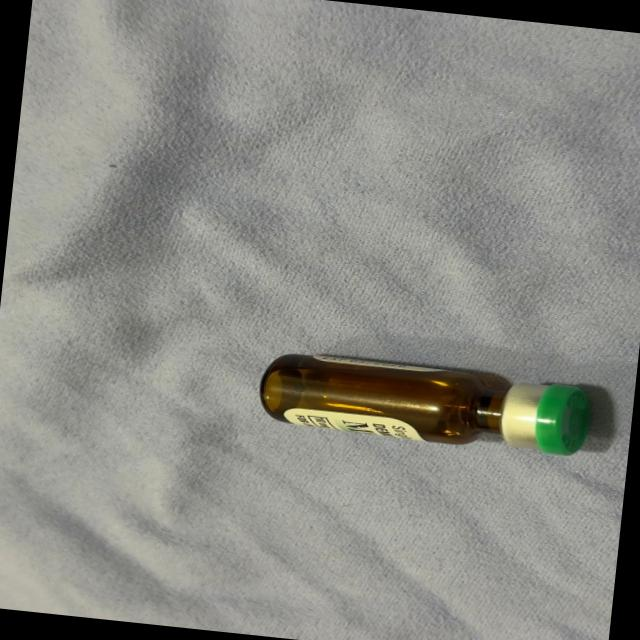midazolm: (262, 349, 588, 456)
